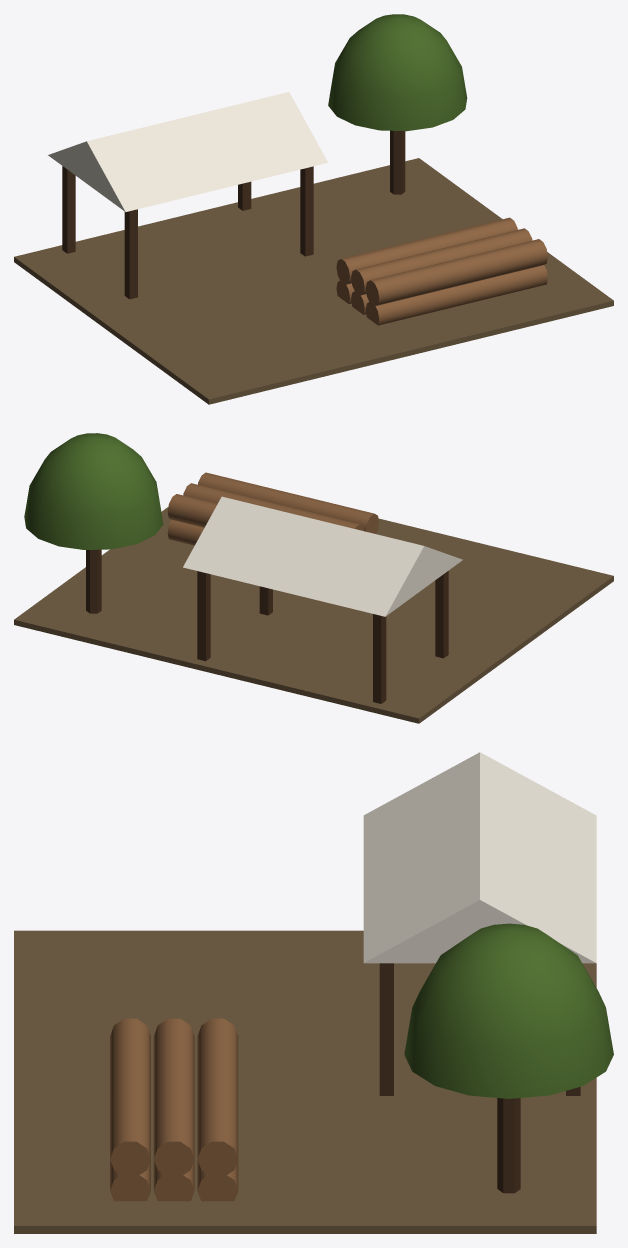
The model's file is lumber.glb.
The picture shows the model from 3 angles, top to bottom: view 1: azimuth 30°, elevation 25°; view 2: azimuth 150°, elevation 25°; view 3: azimuth 270°, elevation 25°; orthographic projection. The views are drawn at different scales.
Visible parts, largest first — view 1: Lumber; view 2: Lumber; view 3: Lumber.
Part boxes in pixels (x1=…): Lumber: x1=14, y1=14, x2=613, y2=404; Lumber: x1=14, y1=433, x2=613, y2=723; Lumber: x1=14, y1=752, x2=613, y2=1233.
Bounding box in the file's own units: 12.3 × 5.04 × 10.3.
